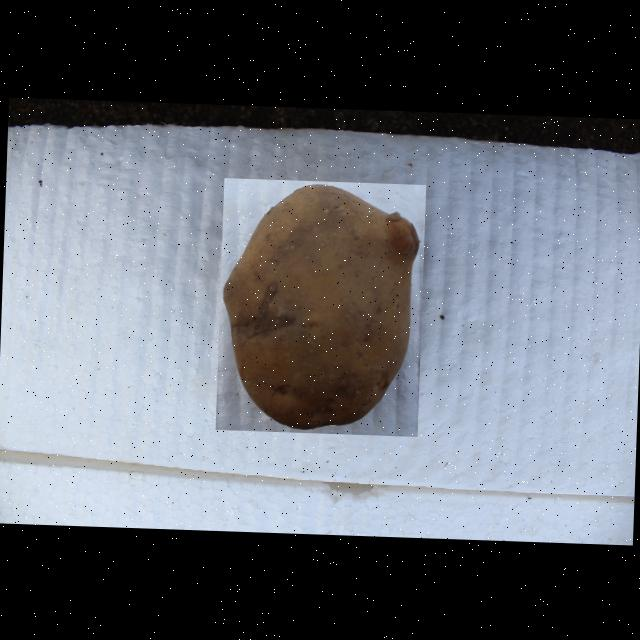Diseased-fungal potato: (214, 177, 425, 436)
